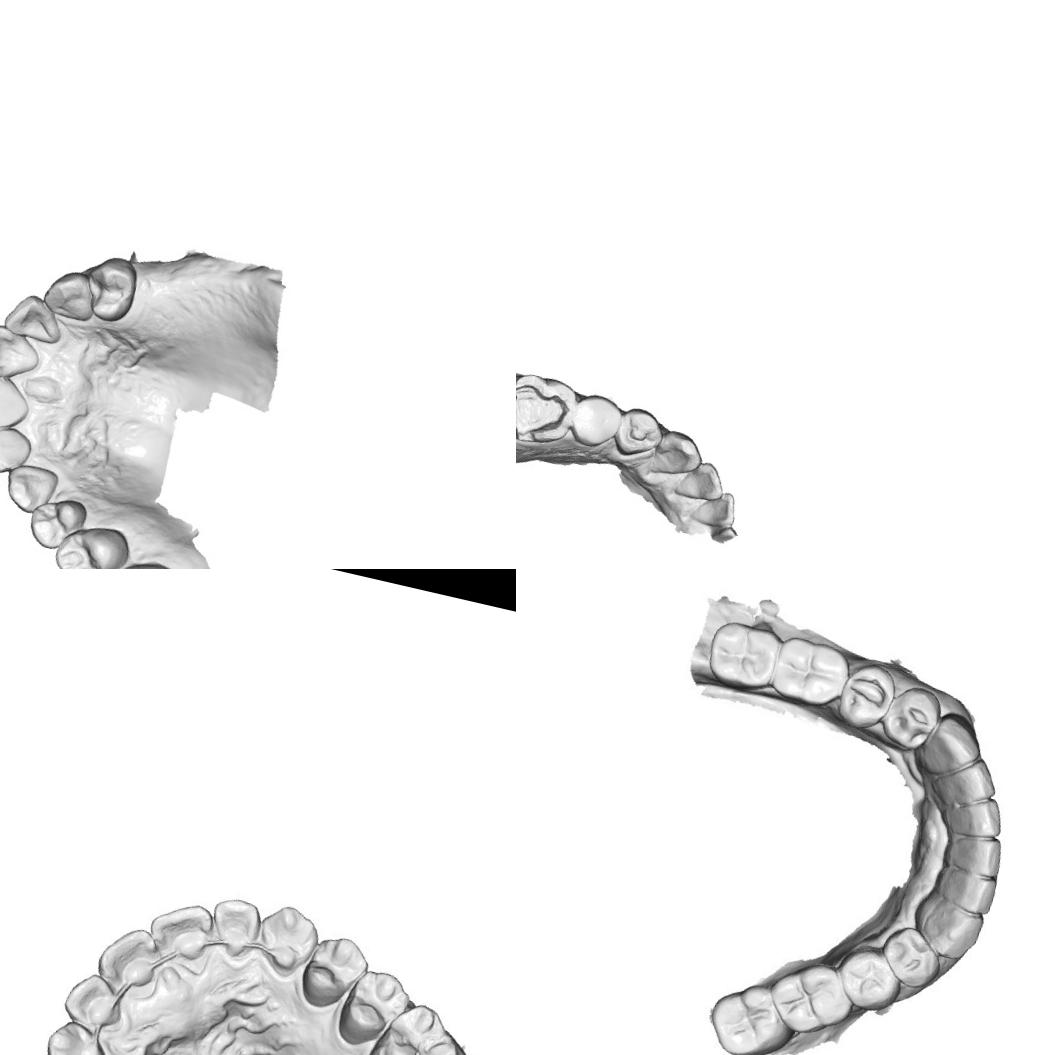canine: (918, 709, 986, 787), (256, 900, 325, 976), (915, 898, 984, 967), (644, 424, 708, 484), (40, 265, 102, 324), (1, 460, 60, 518), (41, 1021, 116, 1055)
incisor: (94, 924, 170, 996), (147, 896, 222, 966), (205, 894, 265, 963), (60, 970, 128, 1030), (1, 290, 69, 346), (940, 790, 1008, 841), (943, 830, 1008, 883), (936, 757, 998, 807), (671, 454, 729, 506), (0, 321, 45, 387), (937, 869, 997, 915), (685, 484, 740, 532), (0, 369, 35, 439), (0, 420, 35, 479)
inlay: (516, 377, 575, 451)
molar: (767, 958, 854, 1042), (704, 611, 786, 694), (770, 634, 852, 714), (705, 977, 787, 1055), (365, 995, 471, 1055), (98, 552, 189, 569)
premolar: (336, 962, 416, 1055), (297, 928, 371, 1015), (875, 923, 944, 994), (79, 252, 142, 326), (837, 944, 902, 1014), (48, 516, 133, 569), (24, 490, 89, 556), (566, 388, 626, 454), (836, 662, 896, 728), (886, 682, 938, 750), (611, 401, 668, 463)
